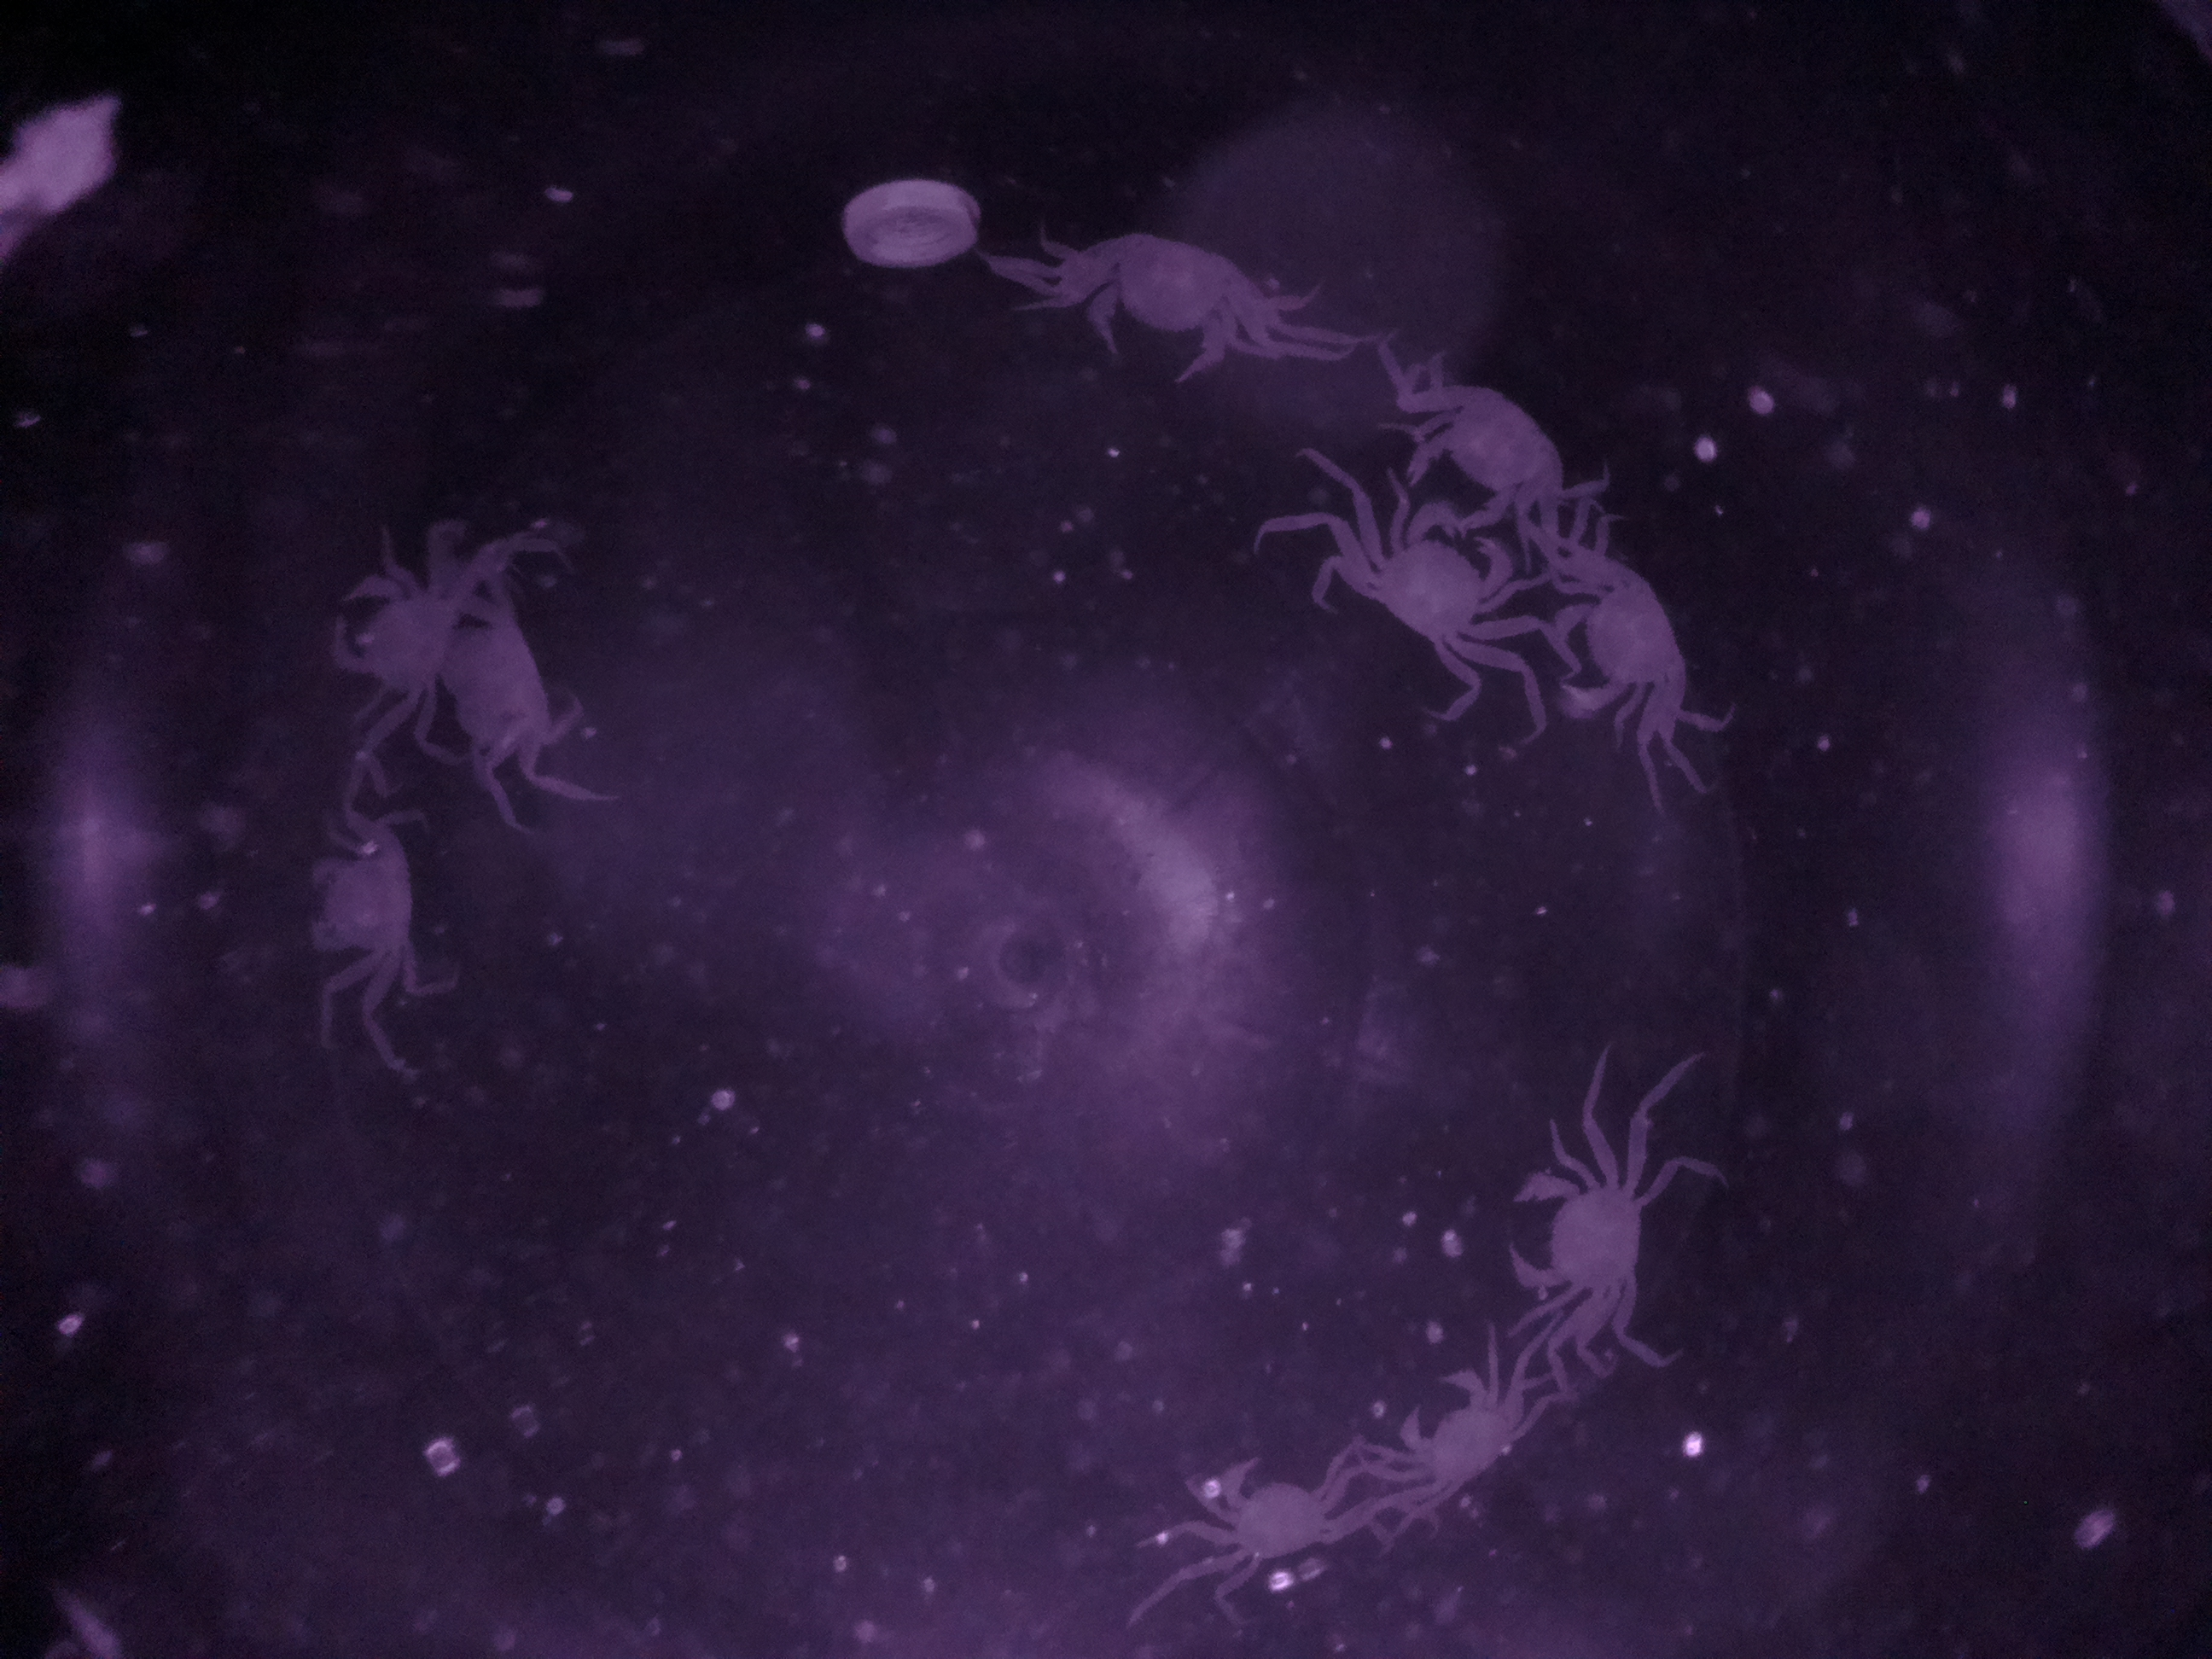Crab: (1059, 213, 1280, 396), (1498, 1117, 1670, 1342), (1359, 483, 1533, 702), (1390, 352, 1580, 542), (1538, 528, 1702, 741), (282, 800, 455, 985), (1374, 1351, 1533, 1509)
